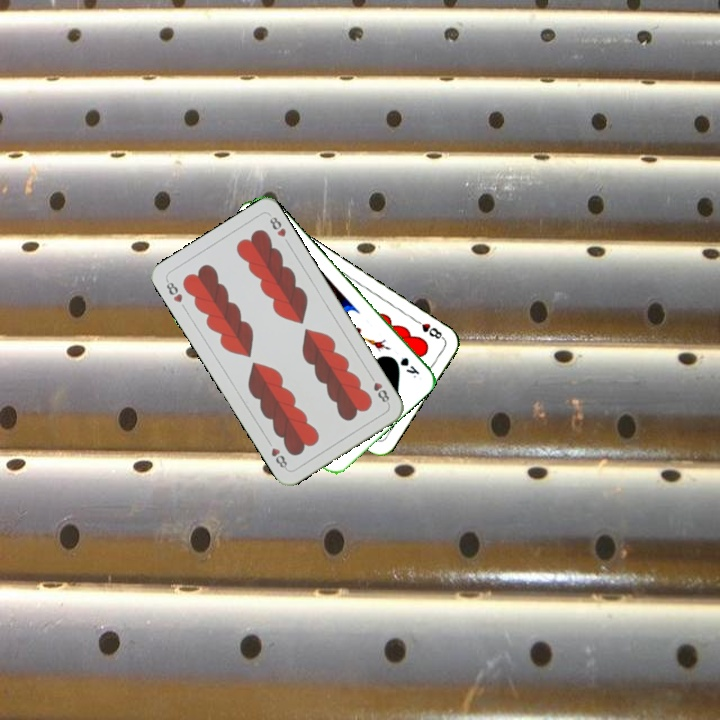GK: (396, 353, 422, 381)
H8: (410, 315, 447, 342), (365, 370, 392, 406), (162, 275, 185, 305)
